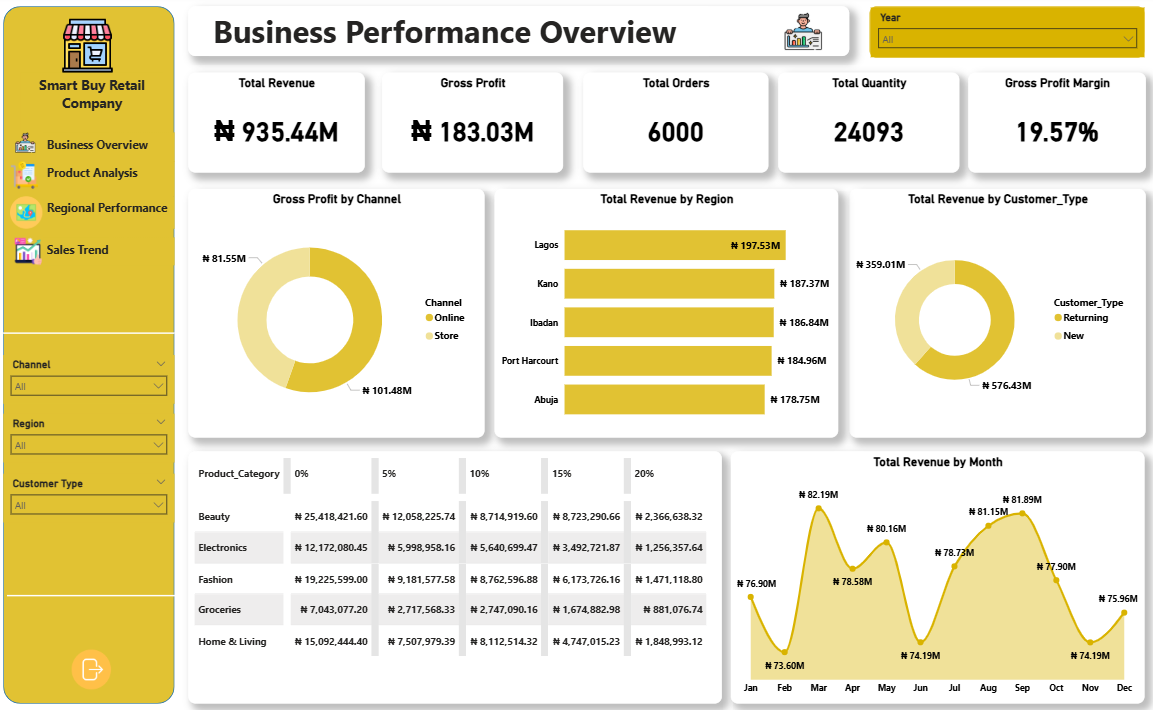

The dashboard page shown, as its layout file describes it:
{"tool":"powerbi","page":{"name":"Business_Overview","canvas":[1600,1000],"ordinal":0},"visuals":[{"type":"card","title":"Total Revenue","fields":{"Values":["Measure_Table.Total Revenue"]},"box":[264.3,107.1,243.6,138.2],"z":0},{"type":"card","title":"Gross Profit","fields":{"Values":["Measure_Table.Gross Profit"]},"box":[532.1,107.1,250.5,138.2],"z":1000},{"type":"card","title":"Total Orders","fields":{"Values":["Measure_Table.Total Orders"]},"box":[810.3,107.1,255.7,138.2],"z":2000},{"type":"card","title":"Total Quantity","fields":{"Values":["Measure_Table.Total_Quantity"]},"box":[1079.8,107.1,250.5,138.2],"z":3000},{"type":"card","title":"Gross Profit Margin","fields":{"Values":["Measure_Table.Gross Profit Margin"]},"box":[1342.4,107.1,245.3,138.2],"z":4000},{"type":"donutChart","fields":{"Category":["Channel.Channel"],"Y":["Measure_Table.Gross Profit"]},"box":[264.3,267.8,409.5,343.8],"z":5000},{"type":"donutChart","fields":{"Category":["Customer.Customer_Type"],"Y":["Measure_Table.Total Revenue"]},"box":[1178.3,267.8,409.5,343.8],"z":6000},{"type":"clusteredBarChart","fields":{"Category":["Region.Region"],"Y":["Measure_Table.Total Revenue"]},"box":[687.6,267.8,475.1,343.8],"z":7000},{"type":"pivotTable","fields":{"Rows":["Product.Product_Category"],"Values":["Measure_Table.Gross Profit"],"Columns":["Transaction.Discount Band"]},"box":[264.3,630.4,691.1,350],"z":8000},{"type":"shape","box":[8.6,15.5,236.7,964.1],"z":9000},{"type":"shape","box":[264.3,15.5,914,69.1],"z":10000},{"type":"shape","box":[1205.9,15.5,380.1,70.8],"z":11000},{"type":"textbox","box":[293.7,15.5,689.4,70.8],"z":12000},{"type":"textbox","box":[32.8,107.1,197,82.9],"z":13000},{"type":"image","box":[63.9,32.8,122.7,74.3],"z":14000},{"type":"image","box":[69.1,901.9,122.7,60.5],"z":15000},{"type":"shape","box":[13.8,758.5,236.7,143.4],"z":16000},{"type":"slicer","fields":{"Values":["Channel.Channel"]},"box":[12.1,497.6,236.7,67.4],"z":17000},{"type":"slicer","fields":{"Values":["Customer.Customer_Type"]},"box":[13.8,672.1,236.7,67.4],"z":18000},{"type":"slicer","fields":{"Values":["Region.Region"]},"box":[12.1,578.8,236.7,67.4],"z":19000},{"type":"shape","box":[13.8,419.8,236.7,91.6],"z":20000},{"type":"textbox","box":[63.9,190,181.4,39.7],"z":21000},{"type":"textbox","box":[63.9,229.8,181.4,48.4],"z":22000},{"type":"textbox","box":[63.9,278.2,181.4,44.9],"z":23000},{"type":"textbox","box":[63.9,335.2,181.4,38],"z":24000},{"type":"image","box":[13.8,190,50.1,27.6],"z":25000},{"type":"image","box":[1066,24.2,96.8,51.8],"z":26000},{"type":"image","box":[10.4,229.8,55.3,38],"z":27000},{"type":"image","box":[15.5,278.2,50.1,44.9],"z":28000},{"type":"image","box":[17.3,335.2,51.8,38],"z":29000},{"type":"lineChart","title":"Total Revenue by Month","fields":{"Category":["DateTable.Short Month"],"Y":["Measure_Table.Total Revenue"]},"box":[969.6,630.4,616.1,350],"z":29001},{"type":"slicer","fields":{"Values":["DateTable.Year"]},"box":[1207.7,17.3,380.1,69.1],"z":29002}]}

Visuals, with their boxes in screenshot pixels (x1, y1, x2, y2), scaled from the page's 1600x1000 canvas onto the 1153x710 screenshot:
"Total Revenue" card: (190,76,366,174)
"Gross Profit" card: (383,76,564,174)
"Total Orders" card: (584,76,768,174)
"Total Quantity" card: (778,76,959,174)
"Gross Profit Margin" card: (967,76,1144,174)
donutChart - Channel.Channel x Measure_Table.Gross Profit: (190,190,486,434)
donutChart - Customer.Customer_Type x Measure_Table.Total Revenue: (849,190,1144,434)
clusteredBarChart - Region.Region x Measure_Table.Total Revenue: (496,190,838,434)
pivotTable - Product.Product_Category x Measure_Table.Gross Profit: (190,448,688,696)
shape: (6,11,177,696)
shape: (190,11,849,60)
shape: (869,11,1143,61)
textbox: (212,11,708,61)
textbox: (24,76,166,135)
image: (46,23,134,76)
image: (50,640,138,683)
shape: (10,539,181,640)
slicer - Channel.Channel: (9,353,179,401)
slicer - Customer.Customer_Type: (10,477,181,525)
slicer - Region.Region: (9,411,179,459)
shape: (10,298,181,363)
textbox: (46,135,177,163)
textbox: (46,163,177,198)
textbox: (46,198,177,229)
textbox: (46,238,177,265)
image: (10,135,46,154)
image: (768,17,838,54)
image: (7,163,47,190)
image: (11,198,47,229)
image: (12,238,50,265)
"Total Revenue by Month" lineChart: (699,448,1143,696)
slicer - DateTable.Year: (870,12,1144,61)
